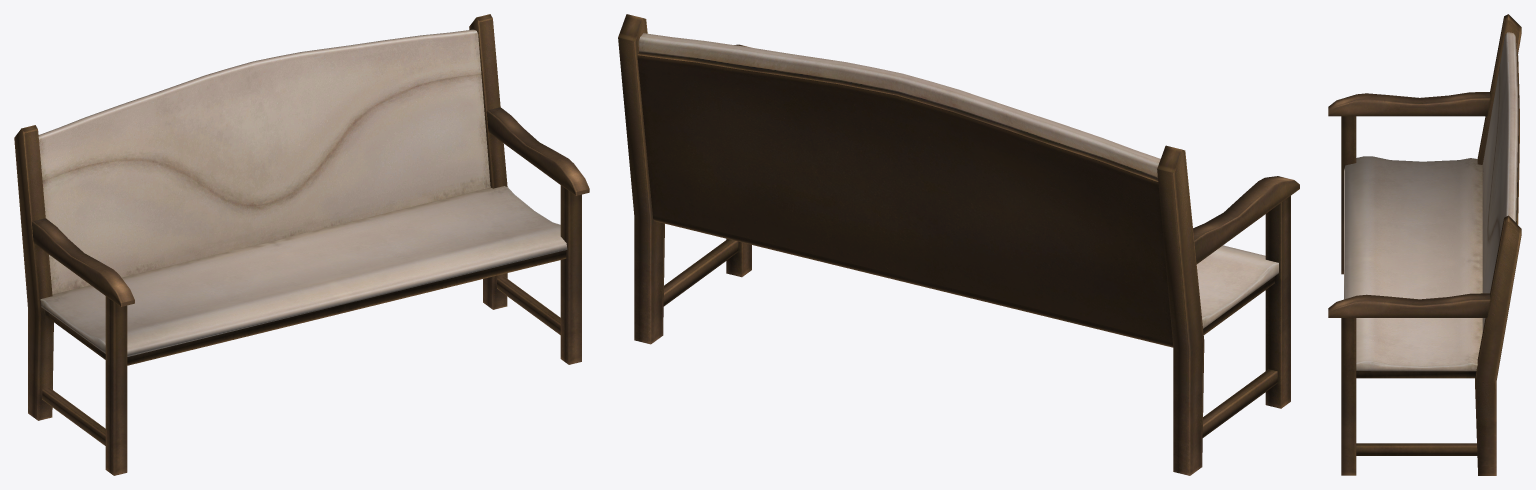
The model's file is bench_waitroom.dae.
3 views of the same model, side by side, from view 1: azimuth 30°, elevation 25°; view 2: azimuth 150°, elevation 25°; view 3: azimuth 270°, elevation 25° (orthographic). The views are drawn at different scales.
Parts seen in each view (by area): view 1: bench_waitroom; view 2: bench_waitroom; view 3: bench_waitroom.
Boxes of the visible parts, bbox=[...] form: bench_waitroom: bbox=[14, 14, 589, 475]; bench_waitroom: bbox=[618, 14, 1299, 475]; bench_waitroom: bbox=[1328, 14, 1521, 475].
Size of the model in its own units: 148 by 86.52 by 58.04.
